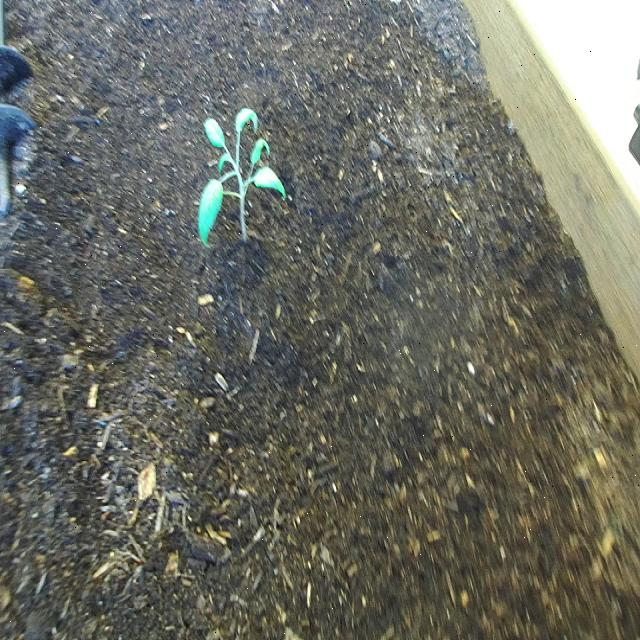Healthy: (196, 101, 291, 256)
